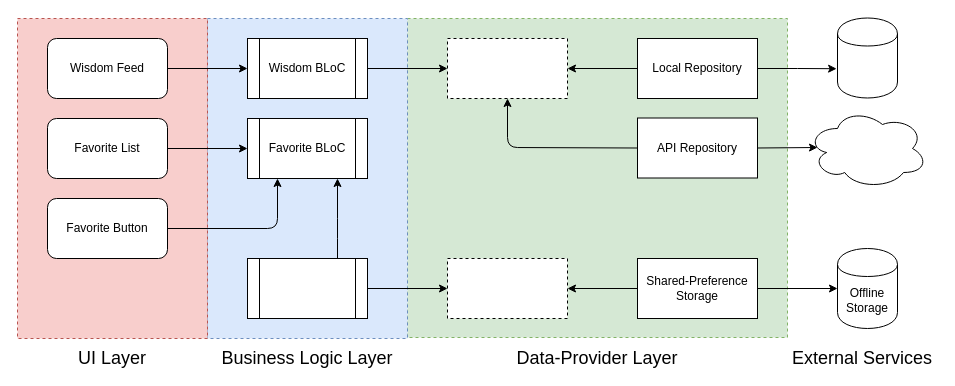
Some shapes in this 955 by 386 pixel diagram are drawn without their labels. Each missing label, with the centre of its shape:
Advice Slip API: point 867,148
Local Wisdom: point 867,57
Repository <<Interface>>: point 507,68
Storage <<Interface>>: point 507,288
Storage BLoC: point 307,288
